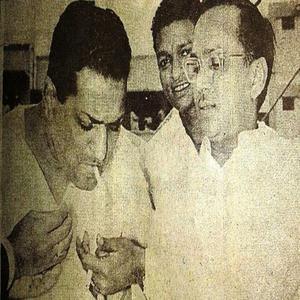cigarette: (93, 160, 112, 201)
